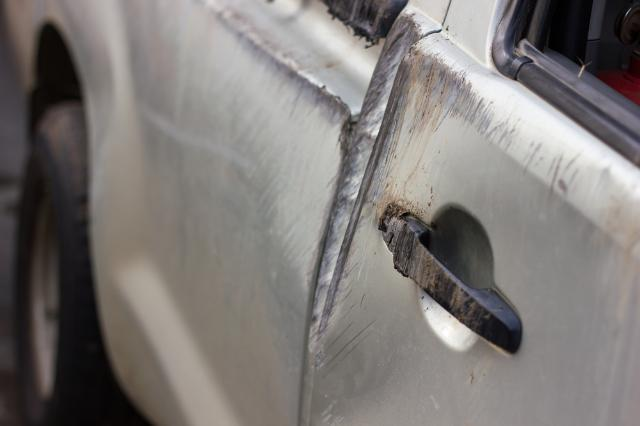scratch: (305, 10, 587, 375)
